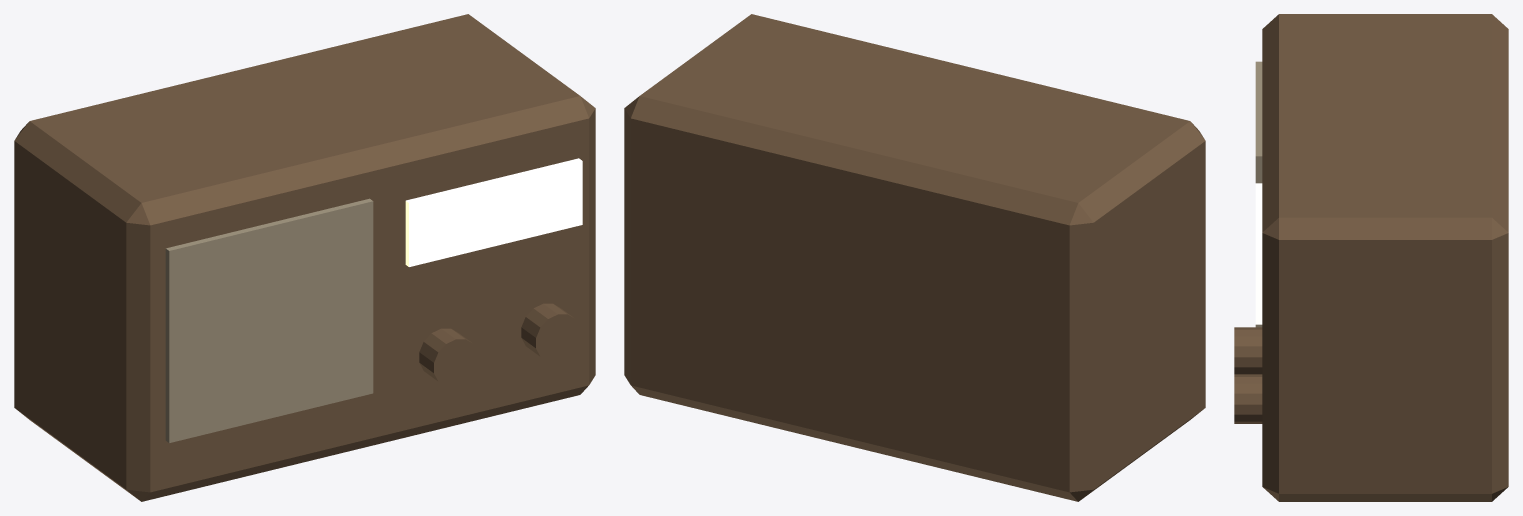
Rendered from radio.glb.
The picture shows the model from 3 angles, left to right: view 1: azimuth 30°, elevation 25°; view 2: azimuth 150°, elevation 25°; view 3: azimuth 270°, elevation 25°; orthographic projection. The views are drawn at different scales.
Parts seen in each view (by area): view 1: Cube, Cube.001, Cube.002, Cylinder, Cylinder.001; view 2: Cube; view 3: Cube, Cylinder.001, Cylinder, Cube.002, Cube.001.
Boxes of the visible parts, <box> form: Cube: <box>14,14,595,501</box>; Cube.001: <box>165,198,373,443</box>; Cube.002: <box>405,158,582,266</box>; Cylinder: <box>419,328,477,386</box>; Cylinder.001: <box>521,303,579,361</box>; Cube: <box>624,14,1205,501</box>; Cube: <box>1262,14,1508,501</box>; Cylinder.001: <box>1234,374,1262,423</box>; Cylinder: <box>1234,327,1262,374</box>; Cube.002: <box>1255,183,1262,324</box>; Cube.001: <box>1255,61,1262,327</box>.
Bounding box in the file's own units: 0.46 × 0.28 × 0.245.
